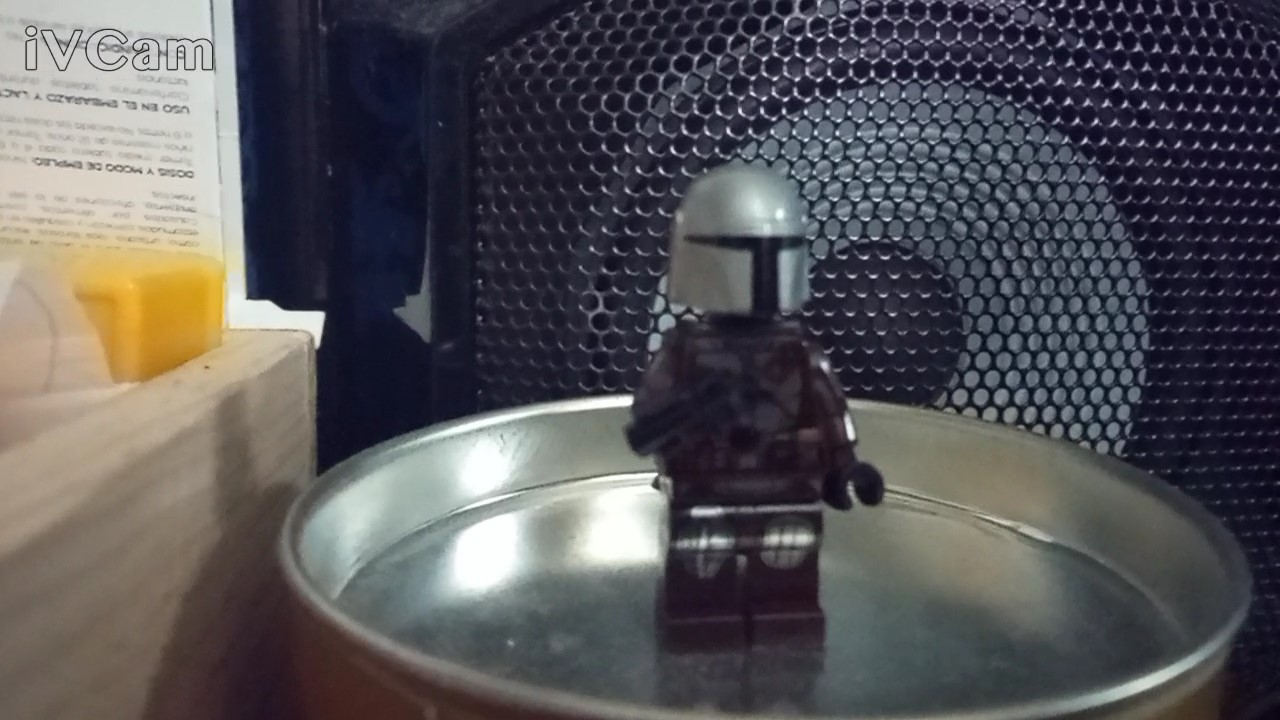mandalorian: (591, 148, 903, 656)
